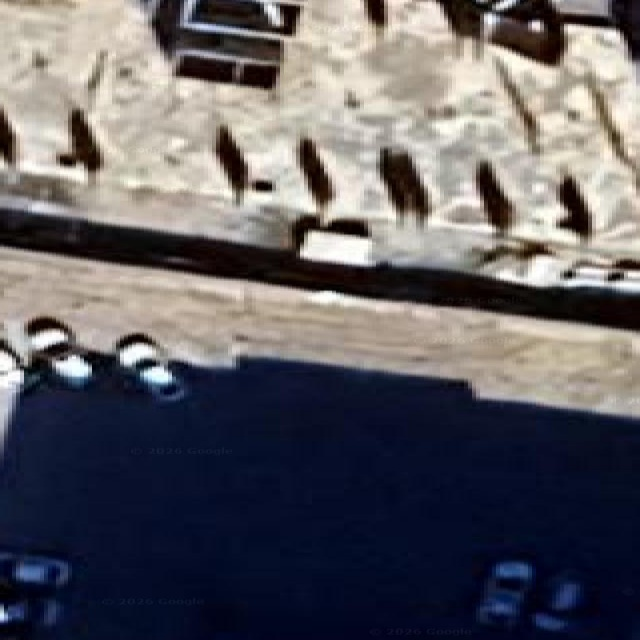car: (24, 316, 91, 387), (116, 332, 183, 400), (475, 560, 532, 627), (532, 572, 587, 632), (0, 584, 60, 636), (0, 551, 70, 592), (608, 0, 639, 80), (24, 316, 75, 360), (0, 599, 60, 636), (51, 352, 91, 387), (0, 593, 28, 636), (0, 340, 23, 387)
